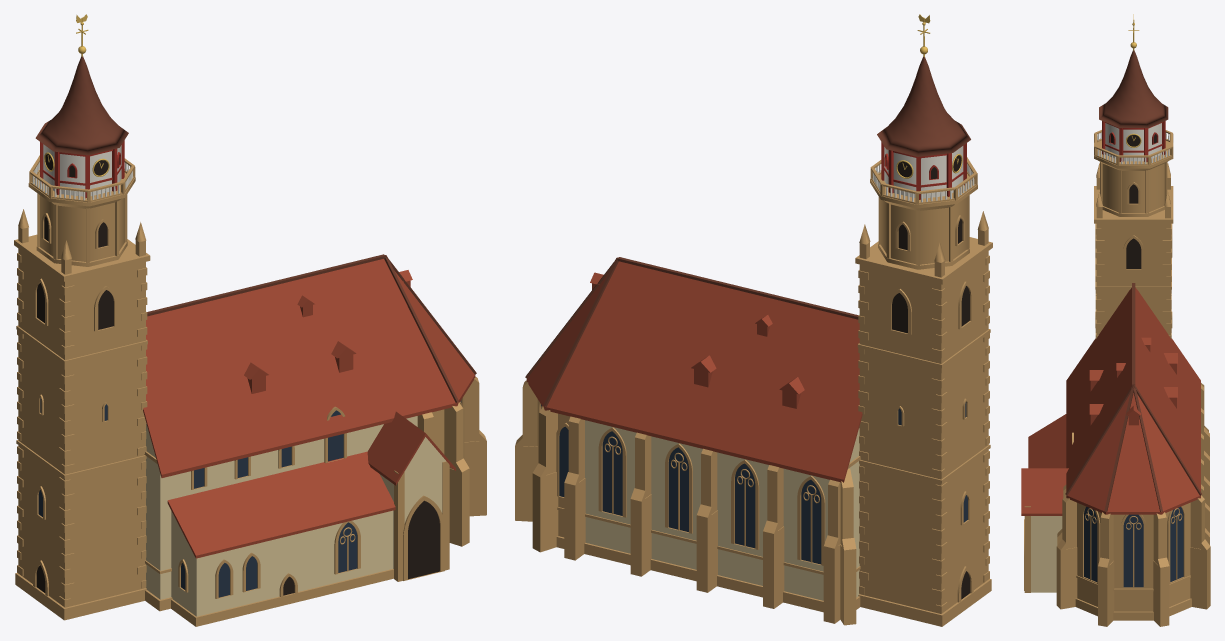
File: kirche_quelle.glb
The picture shows the model from 3 angles, left to right: view 1: azimuth 30°, elevation 25°; view 2: azimuth 150°, elevation 25°; view 3: azimuth 270°, elevation 25°; orthographic projection. The views are drawn at different scales.
Parts seen in each view (by area): view 1: main_roof, tower_shaft, aisle_roof, aisle_walls, nave_walls, helm_roof, octagon_stage, buttress_c_lower (×2), porch_roof, aisle_plinth, porch_arch_glass, buttress_c_upper (×2) (+11 smaller); view 2: main_roof, tower_shaft, nave_walls, buttress_n_lower (×4), window_n_glass (×4), buttress_c_lower (×3), helm_roof, buttress_n_upper (×4), octagon_stage, window_n_frame (×4), buttress_c_upper (×3), plinth (+10 smaller); view 3: main_roof, tower_shaft, buttress_c_lower (×4), choir_walls, window_choir_glass (×3), helm_roof, buttress_c_upper (×4), octagon_stage, porch_walls, porch_roof, hip_ridge (×4), aisle_roof (+11 smaller).
Boxes of the visible parts, x1=… form: main_roof: x1=143, y1=259, x2=475, y2=477; tower_shaft: x1=18, y1=248, x2=145, y2=607; aisle_roof: x1=167, y1=451, x2=395, y2=558; aisle_walls: x1=171, y1=510, x2=393, y2=616; nave_walls: x1=146, y1=416, x2=417, y2=599; helm_roof: x1=35, y1=56, x2=128, y2=155; octagon_stage: x1=40, y1=195, x2=124, y2=261; buttress_c_lower (×2): x1=449, y1=441, x2=486, y2=546; porch_roof: x1=367, y1=411, x2=455, y2=485; aisle_plinth: x1=171, y1=569, x2=393, y2=626; porch_arch_glass: x1=408, y1=500, x2=439, y2=579; buttress_c_upper (×2): x1=444, y1=383, x2=479, y2=468; main_roof: x1=526, y1=261, x2=862, y2=482; tower_shaft: x1=859, y1=251, x2=988, y2=613; nave_walls: x1=585, y1=420, x2=859, y2=600; buttress_n_lower (×4): x1=630, y1=494, x2=840, y2=623; window_n_glass (×4): x1=602, y1=431, x2=821, y2=564; buttress_c_lower (×3): x1=515, y1=445, x2=585, y2=560; helm_roof: x1=877, y1=57, x2=970, y2=156; buttress_n_upper (×4): x1=635, y1=436, x2=840, y2=544; octagon_stage: x1=881, y1=197, x2=966, y2=264; window_n_frame (×4): x1=598, y1=427, x2=825, y2=565; buttress_c_upper (×3): x1=522, y1=387, x2=584, y2=481; plinth: x1=556, y1=536, x2=860, y2=612; main_roof: x1=1066, y1=287, x2=1200, y2=514; tower_shaft: x1=1096, y1=223, x2=1170, y2=334; buttress_c_lower (×4): x1=1056, y1=547, x2=1210, y2=626; choir_walls: x1=1077, y1=502, x2=1190, y2=611; window_choir_glass (×3): x1=1084, y1=506, x2=1183, y2=587; helm_roof: x1=1099, y1=50, x2=1168, y2=127; buttress_c_upper (×4): x1=1062, y1=499, x2=1204, y2=564; octagon_stage: x1=1102, y1=163, x2=1164, y2=213; porch_walls: x1=1031, y1=516, x2=1062, y2=592; porch_roof: x1=1021, y1=468, x2=1068, y2=515; hip_ridge (×4): x1=1065, y1=385, x2=1201, y2=511; aisle_roof: x1=1028, y1=414, x2=1066, y2=468.
Size of the model in its own units: 39.32 by 50.64 by 18.87.
